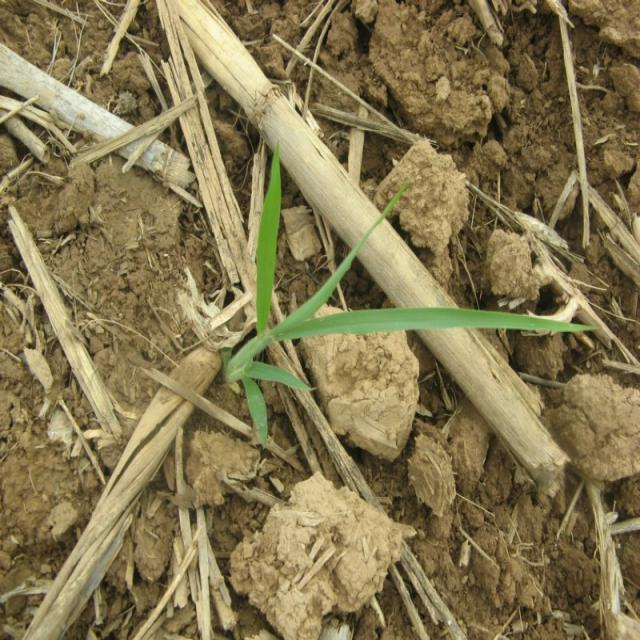bg: (229, 144, 589, 444)
